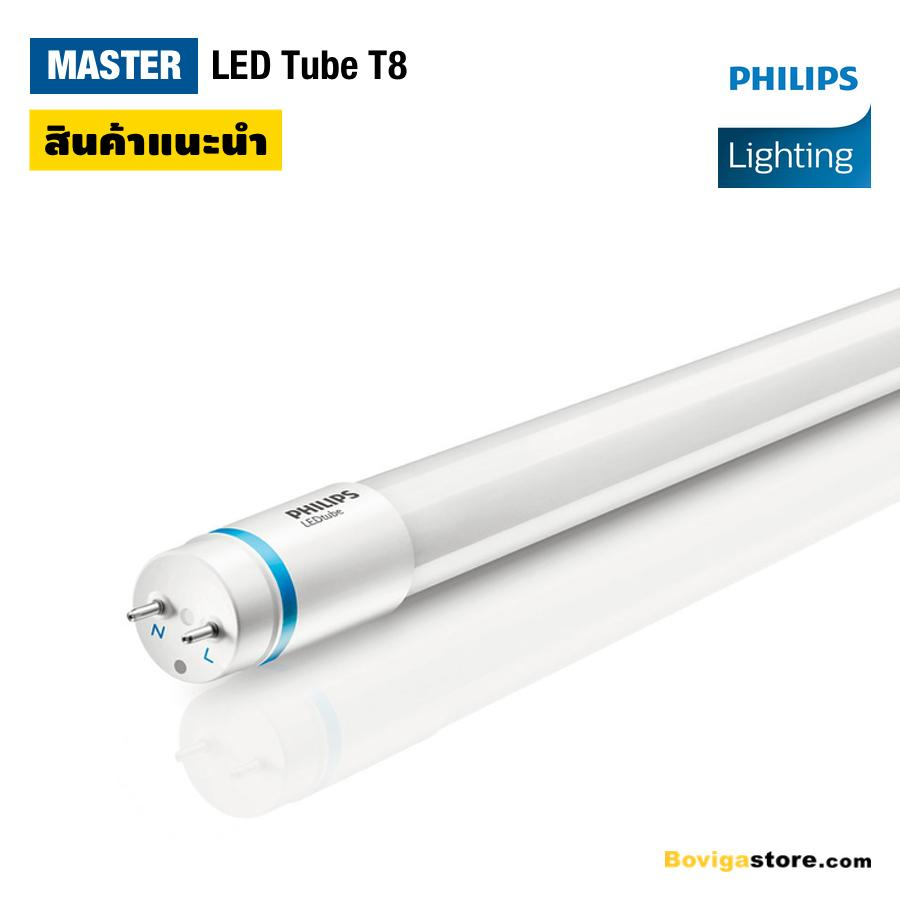Light_bulb: (101, 277, 900, 712)
